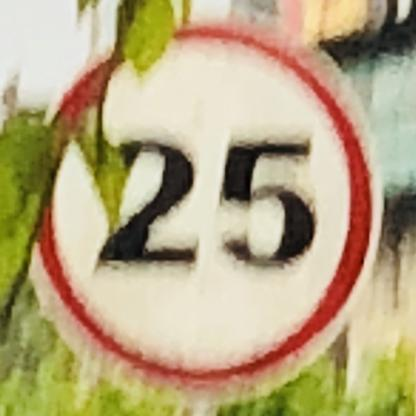Speed Limit -25 kmph-: (24, 18, 379, 396)
